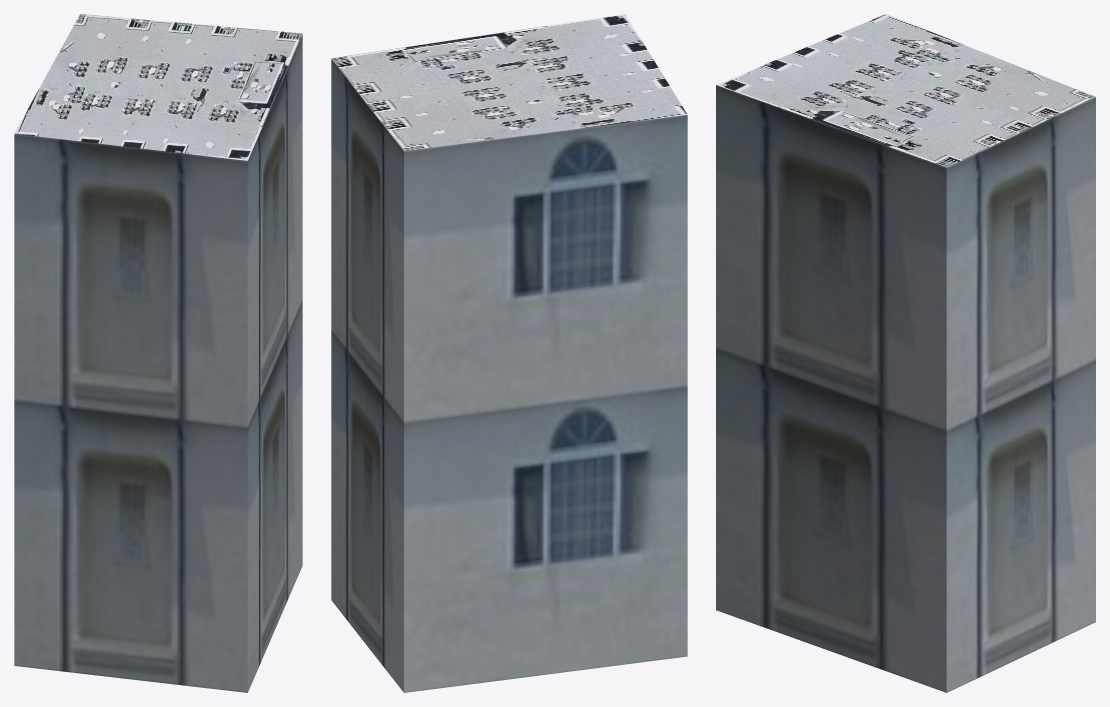
The model's file is ResTex__2140.fbx.
3 views of the same model, side by side, from view 1: azimuth 30°, elevation 25°; view 2: azimuth 150°, elevation 25°; view 3: azimuth 270°, elevation 25° (orthographic). The views are drawn at different scales.
Visible parts, largest first — view 1: CityEngineMaterial_17_m, CityEngineMaterial_8_m; view 2: CityEngineMaterial_17_m, CityEngineMaterial_8_m; view 3: CityEngineMaterial_17_m, CityEngineMaterial_8_m.
Part boxes in pixels (x1=…): CityEngineMaterial_17_m: x1=14, y1=34, x2=302, y2=692; CityEngineMaterial_8_m: x1=14, y1=14, x2=302, y2=160; CityEngineMaterial_17_m: x1=331, y1=59, x2=687, y2=692; CityEngineMaterial_8_m: x1=331, y1=14, x2=687, y2=151; CityEngineMaterial_17_m: x1=716, y1=85, x2=1095, y2=692; CityEngineMaterial_8_m: x1=716, y1=14, x2=1095, y2=167.
Bounding box in the file's own units: 3.77 × 6 × 3.93.
2 materials, 2 textured.
